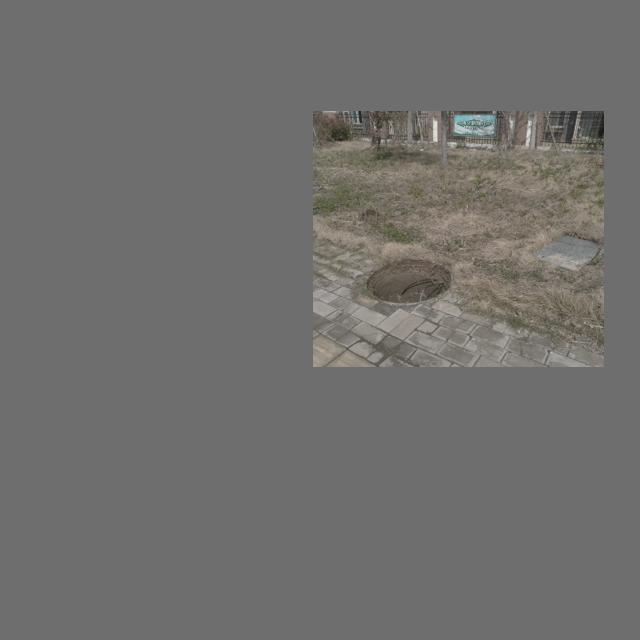lose: (361, 251, 452, 307)
